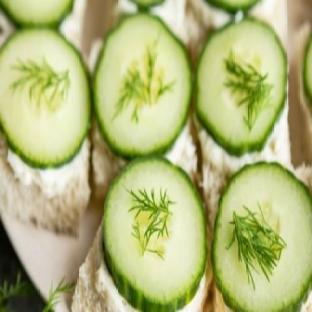Cucumber: (103, 158, 207, 311), (212, 163, 311, 311), (94, 13, 191, 158), (0, 29, 90, 168), (196, 19, 287, 155), (303, 36, 311, 109)
